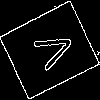V: (25, 25, 78, 76)
